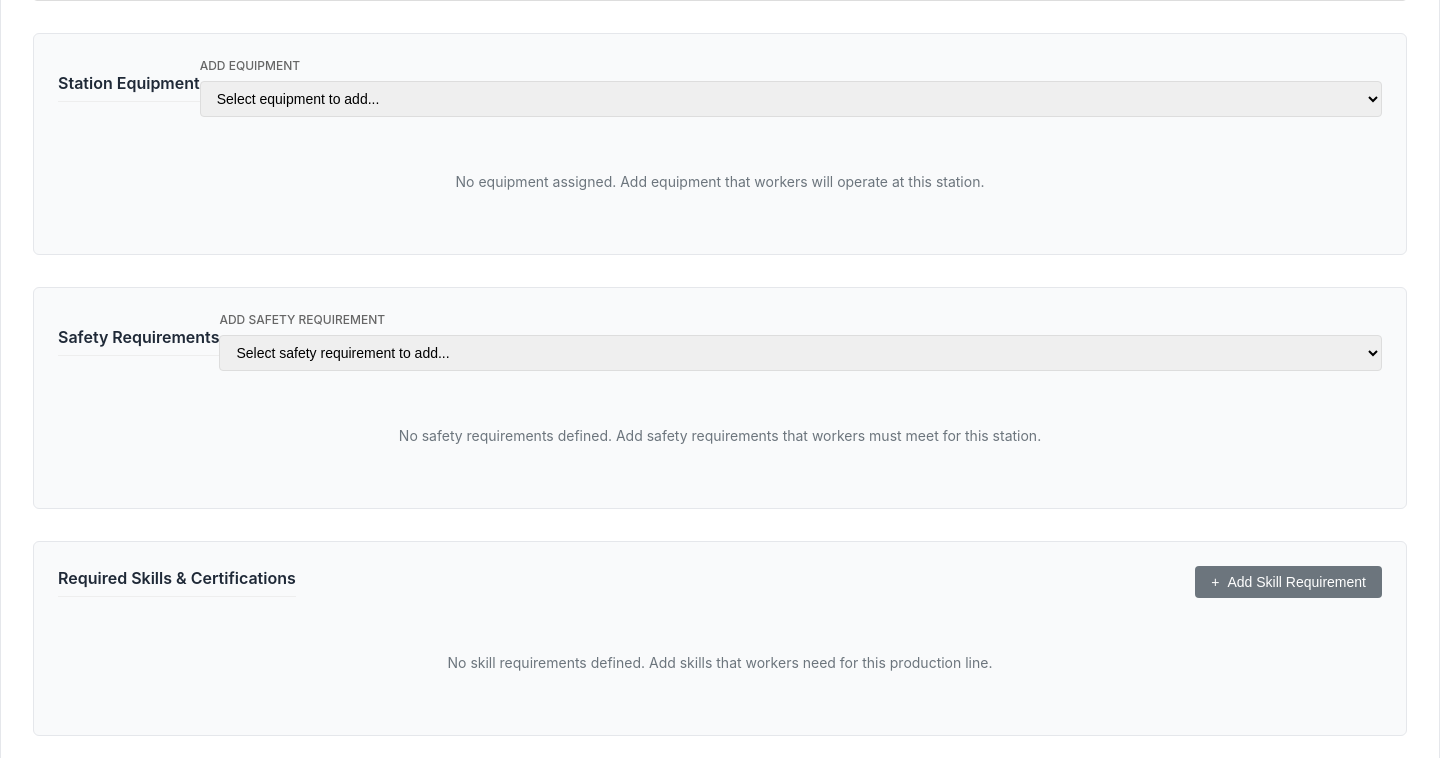
Test case: StationForm › allows adding and removing safety requirements
The width and height of the screenshot is (1440, 758).
(page scrolled)
# Add safety requirement
Select "Lockout/Tagout Certification (intermediate - lockout tagout)" in the dropdown labelled "Add Safety Requirement" at [801, 353], box [219,335,1382,371]
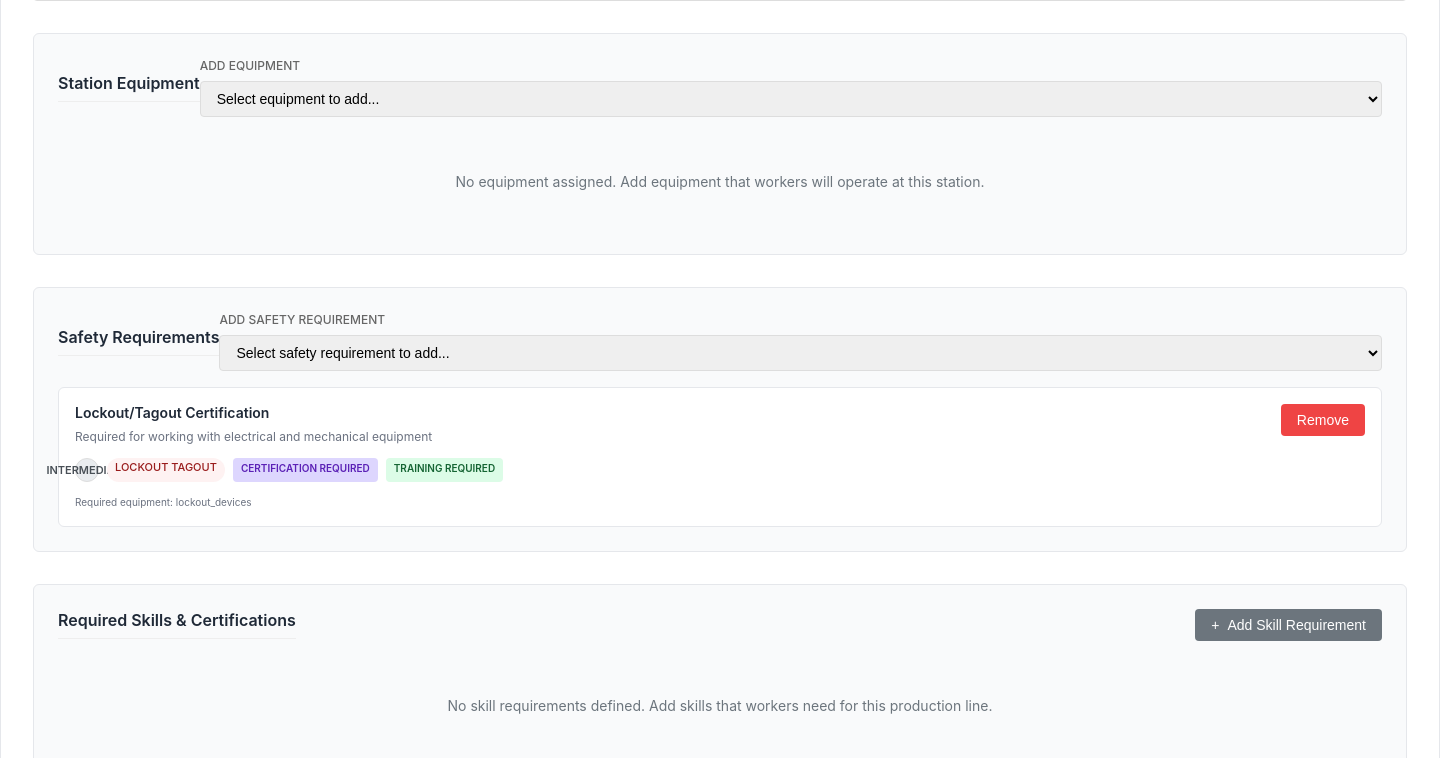
Result: the heading "Lockout/Tagout Certification" is shown at [75,404,269,421]
# Remove safety requirement
Click the button "Remove" at [1323, 420], box [1281,404,1365,436]
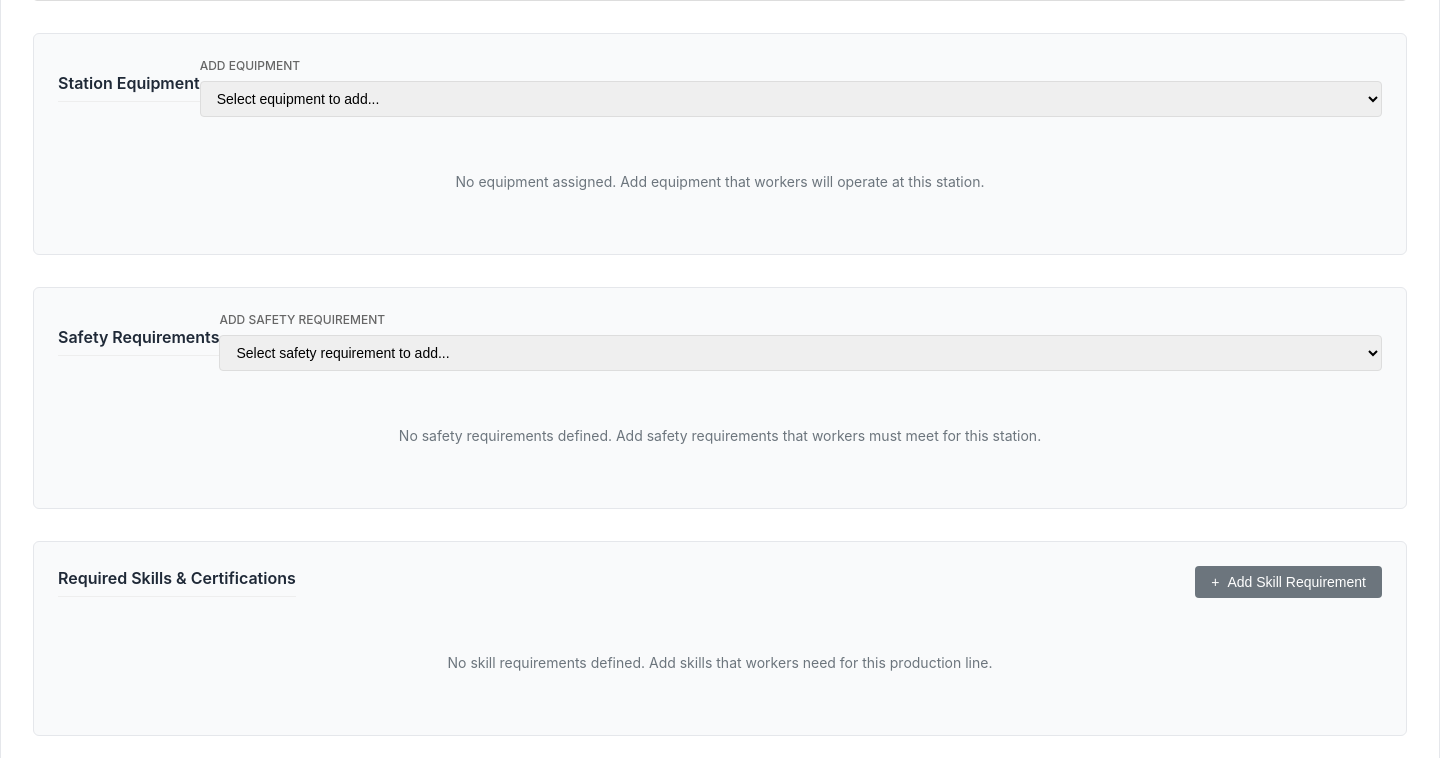
Result: the heading "Lockout/Tagout Certification" is gone
